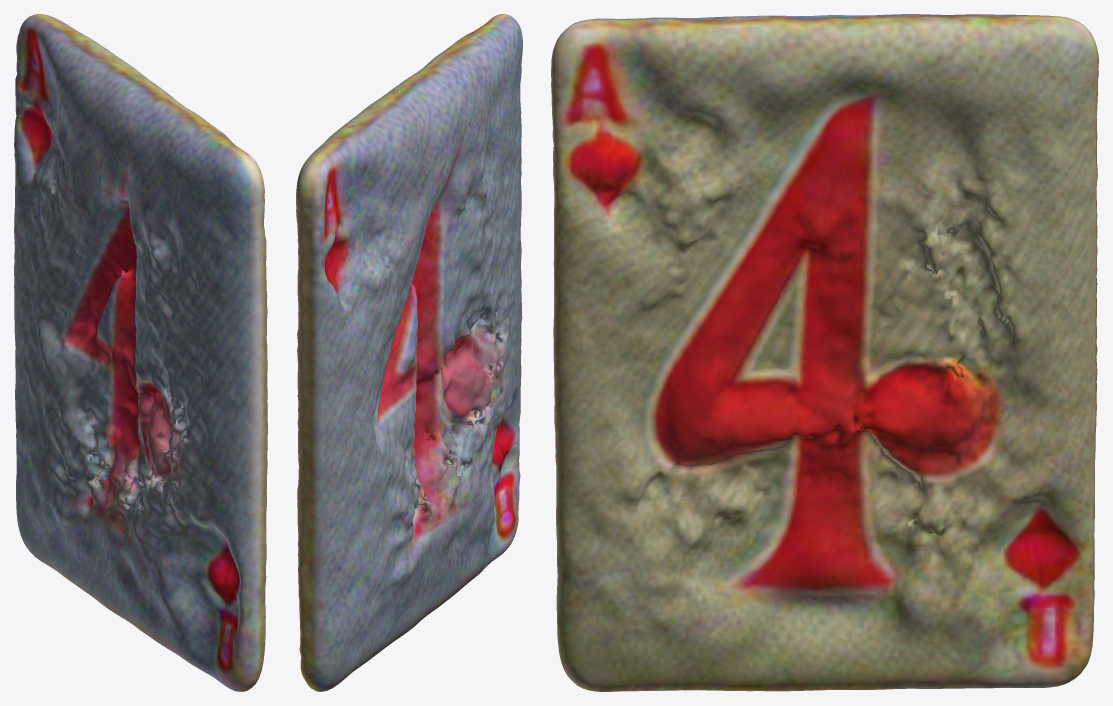
Rendered from card_13.glb.
The picture shows the model from 3 angles, left to right: view 1: azimuth 30°, elevation 25°; view 2: azimuth 150°, elevation 25°; view 3: azimuth 270°, elevation 25°; orthographic projection. The views are drawn at different scales.
Visible parts, largest first — view 1: Mesh1; view 2: Mesh1; view 3: Mesh1.
Part boxes in pixels (x1,y1,x2,y2): Mesh1: (14, 14, 267, 691); Mesh1: (296, 14, 522, 691); Mesh1: (551, 14, 1098, 691).
Size of the model in its own units: 0.1656 by 1.2 by 0.8891.
1 material, 1 textured.
